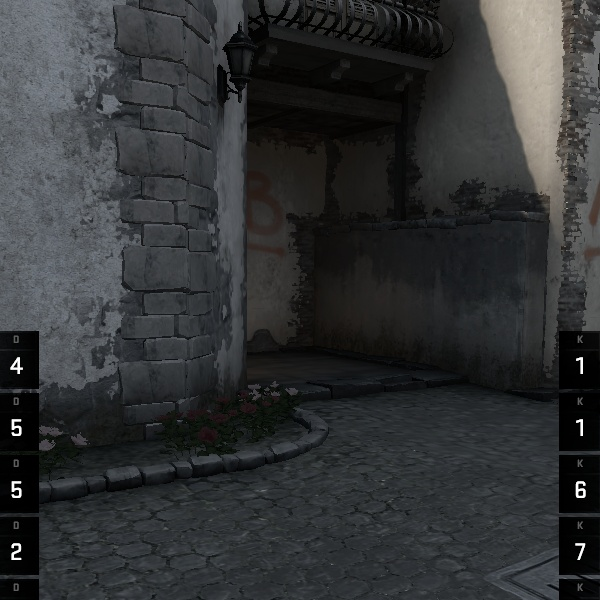ct_head: (210, 0, 541, 211)
